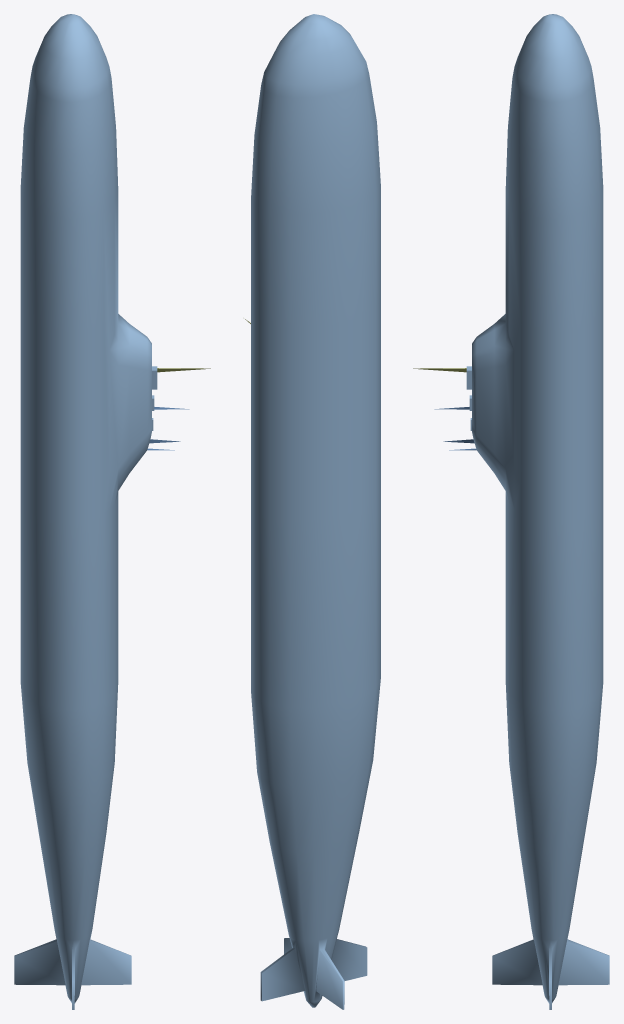
File: alpha_sub.glb
3 views of the same model, side by side, from view 1: azimuth 90°, elevation 25°; view 2: azimuth 210°, elevation 25°; view 3: azimuth 270°, elevation 25° (orthographic).
Visible parts, largest first — view 1: db_alphasu_p13977_Geometry_0.001; view 2: db_alphasu_p13977_Geometry_0.001; view 3: db_alphasu_p13977_Geometry_0.001.
Boxes of the visible parts, <box> form: db_alphasu_p13977_Geometry_0.001: <box>14,14,157,1009</box>; db_alphasu_p13977_Geometry_0.001: <box>251,14,380,1009</box>; db_alphasu_p13977_Geometry_0.001: <box>466,14,609,1009</box>.
Bounding box in the file's own units: 10.5 × 82.82 × 15.21.
